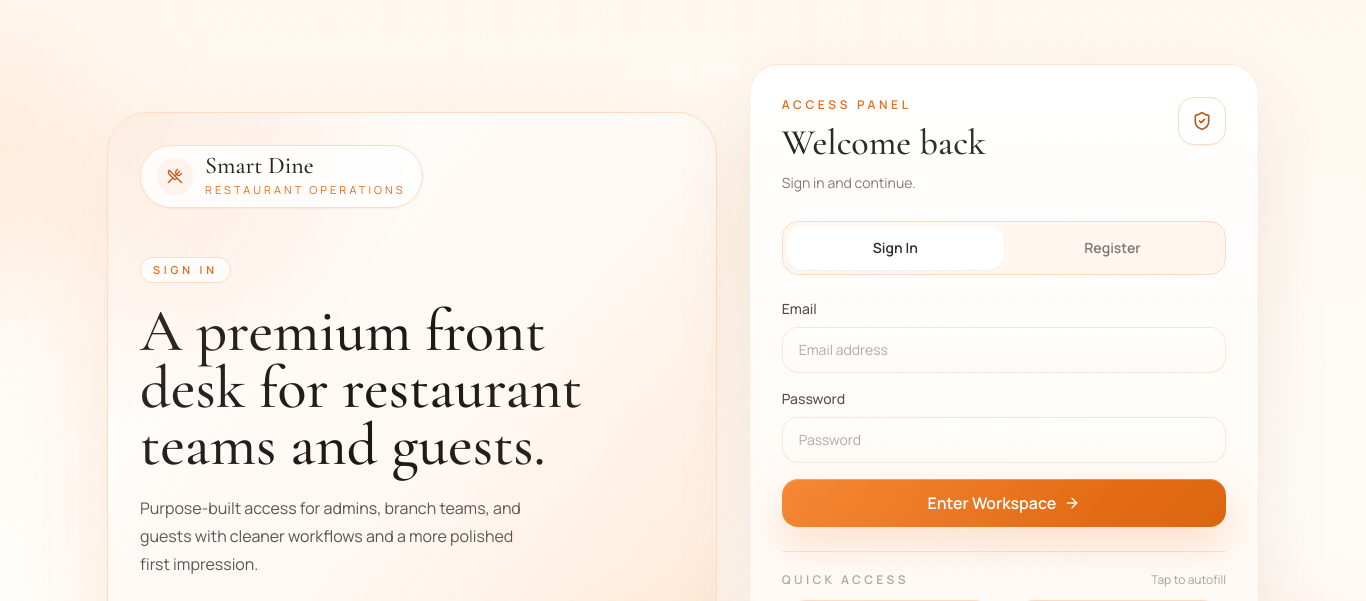
Scenario: LoginPage › shows a helpful message when authentication fails
This screenshot has width=1366, height=601.
Type "superadmin@smartdine.ai" into the field labelled "Email".
click(1004, 350); type("superadmin@smartdine.ai")  # box [782, 327, 1226, 373]
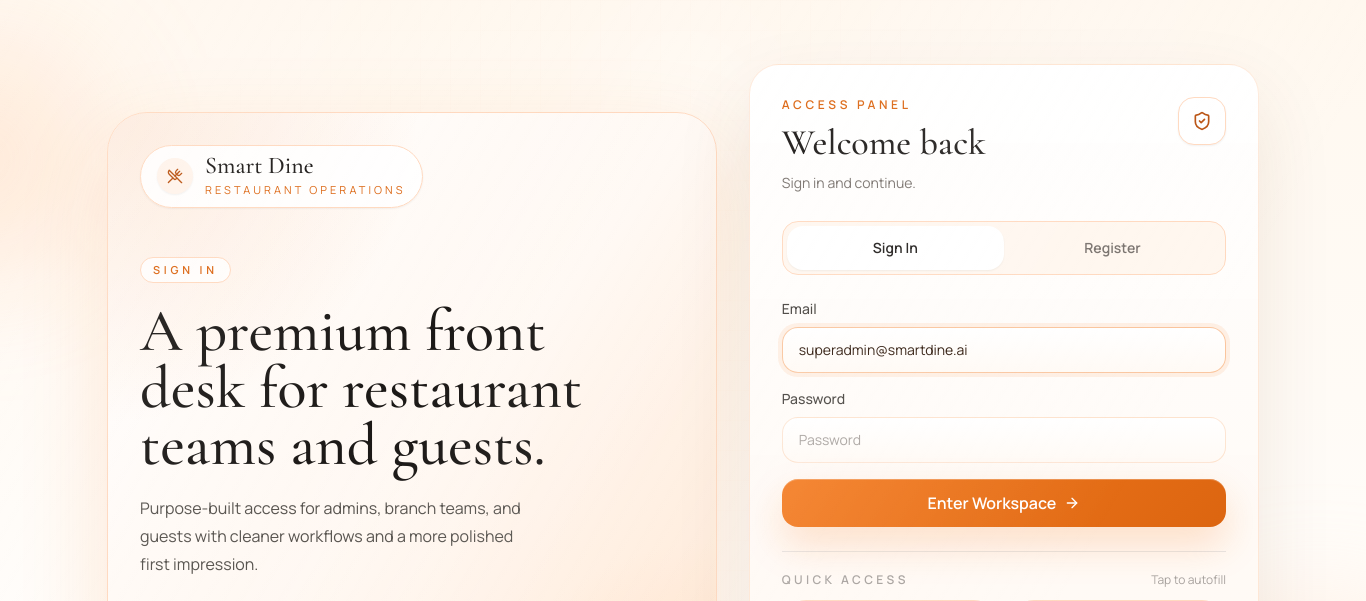
Type "wrong-password" into the password field labelled "Password".
click(1004, 440); type("wrong-password")  # box [782, 417, 1226, 463]
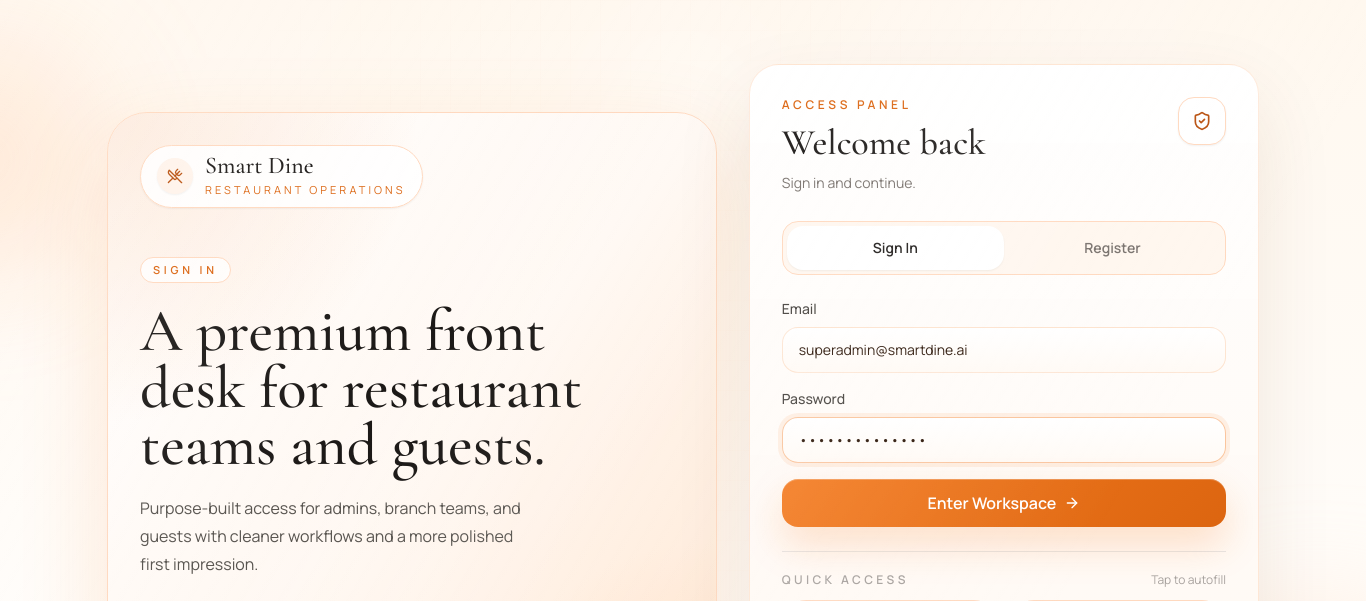
Click the button "Enter Workspace".
click(1004, 503)  # box [782, 479, 1226, 527]
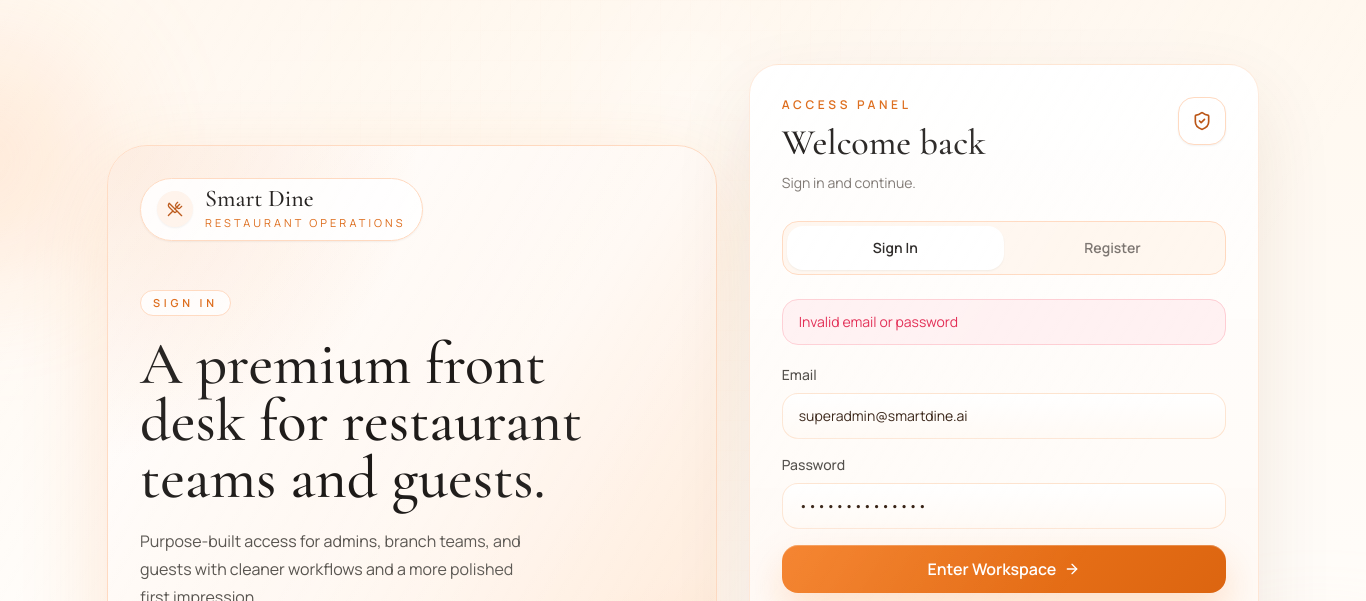
Now the text "Invalid email or password" is shown, box [782, 299, 1226, 345]
